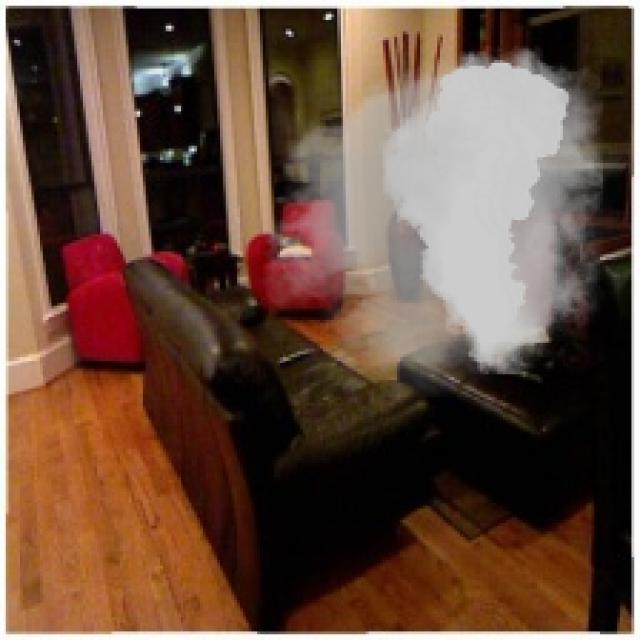smoke: (243, 37, 634, 397)
